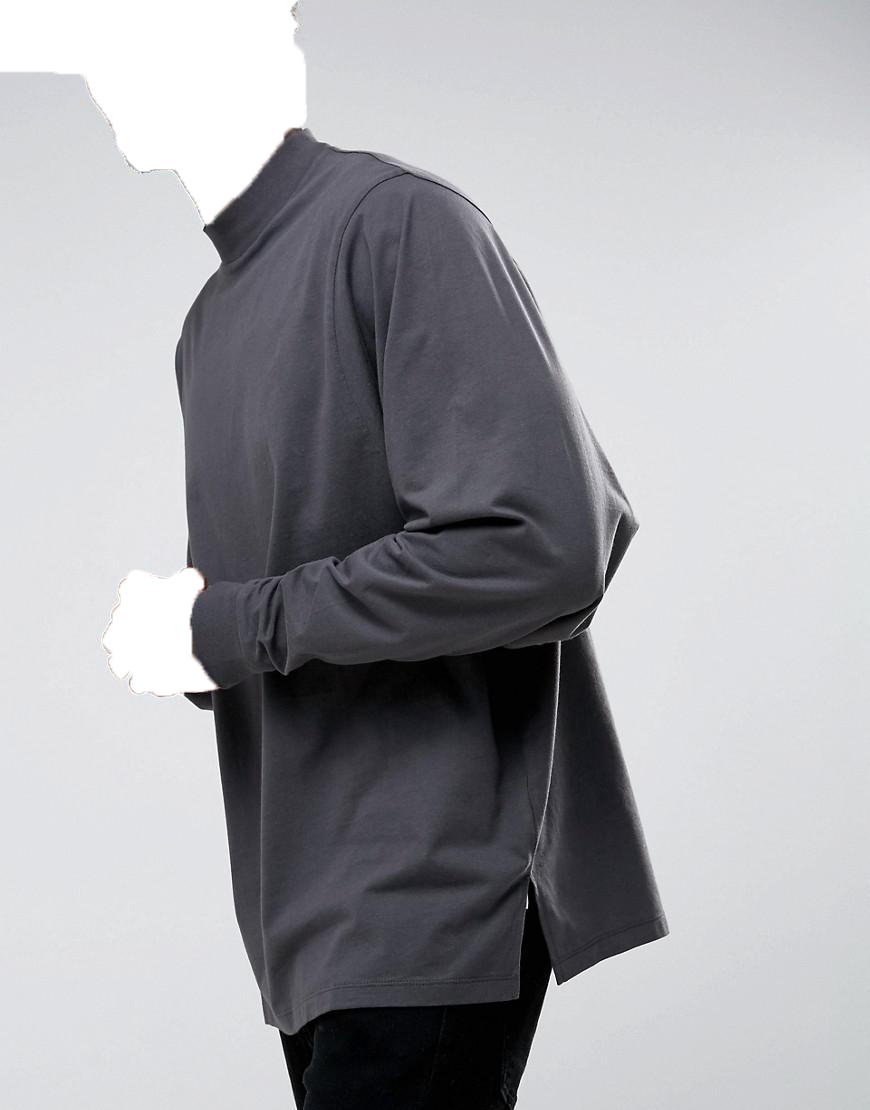teeshirt: (161, 137, 679, 1025)
